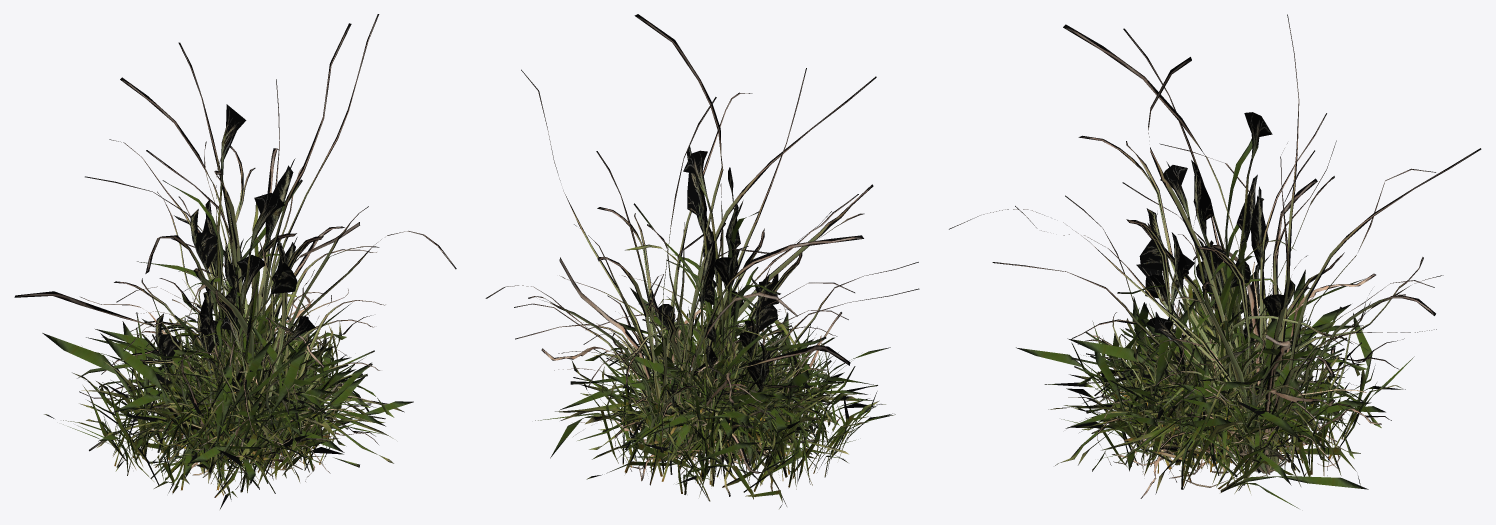
File: scatter_grass.gltf
3 renders of one model, left to right at view 1: azimuth 30°, elevation 25°; view 2: azimuth 150°, elevation 25°; view 3: azimuth 270°, elevation 25°, orthographic. The views are drawn at different scales.
Visible parts, largest first — view 1: grass_0, grass_21, grass_2, grass_1, grass_9, grass_3, grass_20, grass_8, grass_19, grass_10, grass_5, grass_6 (+2 smaller); view 2: grass_0, grass_21, grass_1, grass_2, grass_20, grass_8, grass_9, grass_3, grass_10, grass_4, grass_19, grass_5 (+2 smaller); view 3: grass_0, grass_21, grass_2, grass_1, grass_20, grass_8, grass_9, grass_3, grass_10, grass_19, grass_5.
Boxes of the visible parts, left/top/right/bottom form: grass_0: left=42, top=282, right=372, bottom=509; grass_21: left=14, top=14, right=456, bottom=434; grass_2: left=102, top=308, right=413, bottom=489; grass_1: left=77, top=287, right=404, bottom=483; grass_9: left=170, top=158, right=309, bottom=425; grass_3: left=89, top=237, right=385, bottom=480; grass_20: left=101, top=141, right=376, bottom=471; grass_8: left=137, top=104, right=302, bottom=395; grass_19: left=178, top=236, right=385, bottom=481; grass_10: left=142, top=199, right=314, bottom=449; grass_5: left=150, top=315, right=351, bottom=483; grass_6: left=137, top=319, right=323, bottom=499; grass_0: left=535, top=288, right=895, bottom=508; grass_21: left=485, top=14, right=876, bottom=481; grass_1: left=555, top=286, right=860, bottom=474; grass_2: left=559, top=296, right=873, bottom=484; grass_20: left=515, top=211, right=919, bottom=484; grass_8: left=632, top=150, right=780, bottom=421; grass_9: left=625, top=146, right=802, bottom=451; grass_3: left=591, top=216, right=823, bottom=506; grass_10: left=666, top=231, right=785, bottom=461; grass_4: left=621, top=272, right=831, bottom=496; grass_19: left=586, top=183, right=918, bottom=420; grass_5: left=602, top=299, right=828, bottom=458; grass_0: left=1016, top=254, right=1414, bottom=508; grass_21: left=949, top=14, right=1481, bottom=476; grass_2: left=1065, top=290, right=1371, bottom=485; grass_1: left=1048, top=267, right=1381, bottom=494; grass_20: left=992, top=176, right=1436, bottom=487; grass_8: left=1117, top=112, right=1311, bottom=428; grass_9: left=1132, top=160, right=1294, bottom=386; grass_3: left=1086, top=232, right=1350, bottom=464; grass_10: left=1136, top=186, right=1268, bottom=446; grass_19: left=1065, top=195, right=1367, bottom=498; grass_5: left=1090, top=259, right=1339, bottom=466.
Bounding box in the file's own units: 0.3556 × 0.4034 × 0.4332.
2 materials, 2 textured.
